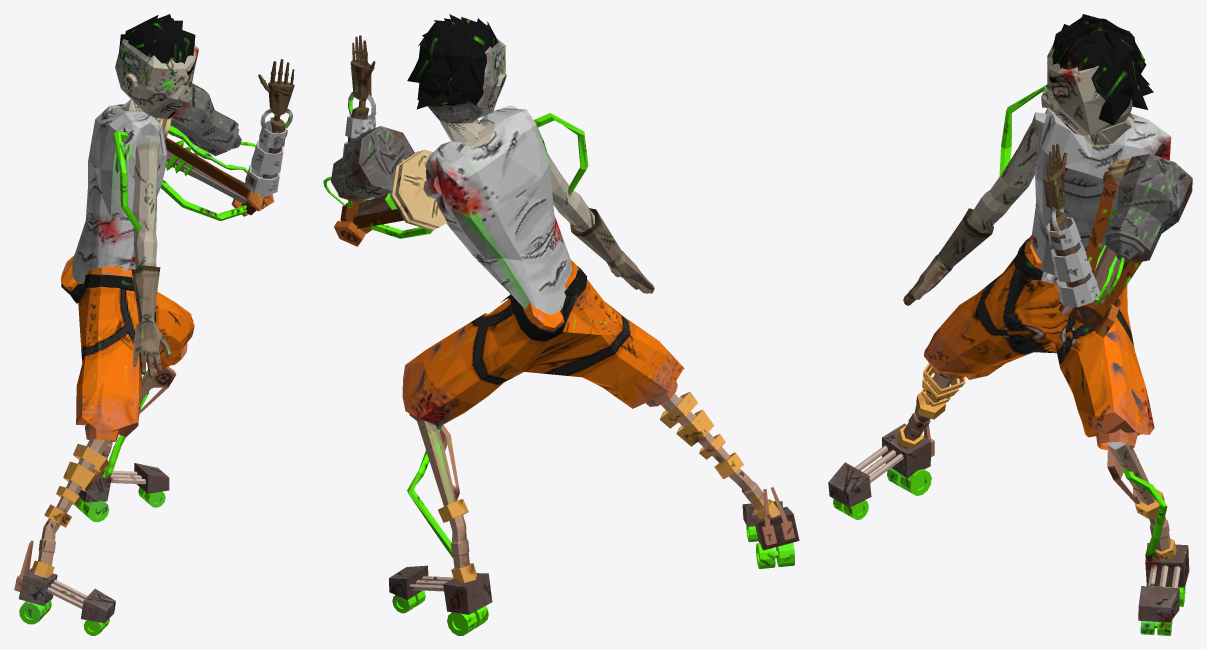
File: CyborgFINALAnimation_000037.obj
3 renders of one model, left to right at view 1: azimuth 30°, elevation 25°; view 2: azimuth 150°, elevation 25°; view 3: azimuth 270°, elevation 25°, orthographic. The views are drawn at different scales.
Parts seen in each view (by area): view 1: CyborgMesh_Cube.002; view 2: CyborgMesh_Cube.002; view 3: CyborgMesh_Cube.002.
Boxes of the visible parts, x1,y1,x2,y2 form: CyborgMesh_Cube.002: [14, 14, 294, 635]; CyborgMesh_Cube.002: [323, 14, 799, 635]; CyborgMesh_Cube.002: [828, 14, 1192, 635].
Size of the model in its own units: 5.99 by 8.67 by 4.72.
